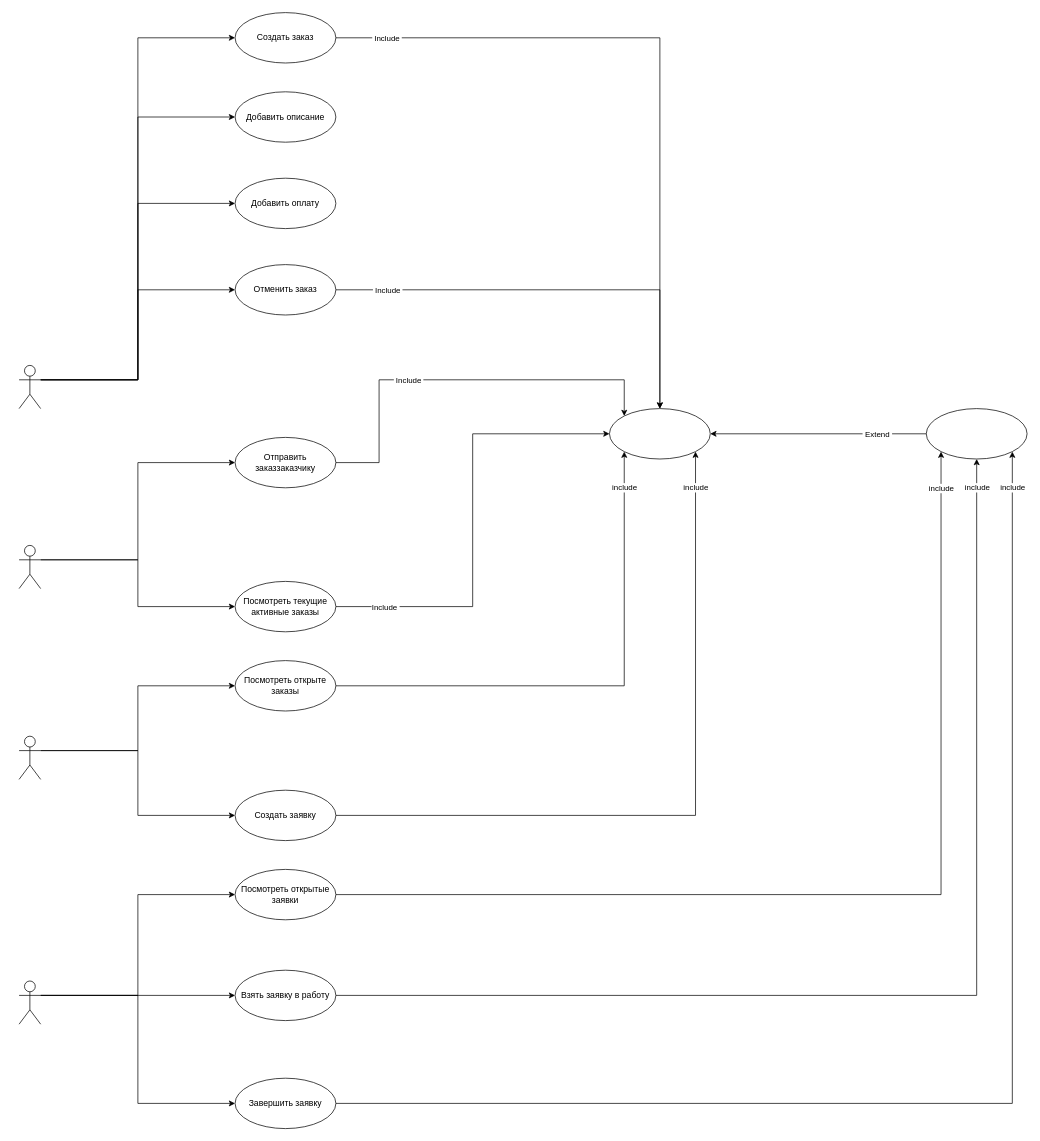
This 1040x1141 diagram has some shape labels left out. Here are the shapes that lost their labels. From the top down, the centre of each, then its label:
At [29,387]: "Actor".
At [659,433]: "Посмотреть список заказов".
At [976,433]: "Посмотреть список заявок".
At [29,567]: "Logist".
At [29,757]: "Manager".
At [29,1002]: "Engineer".
